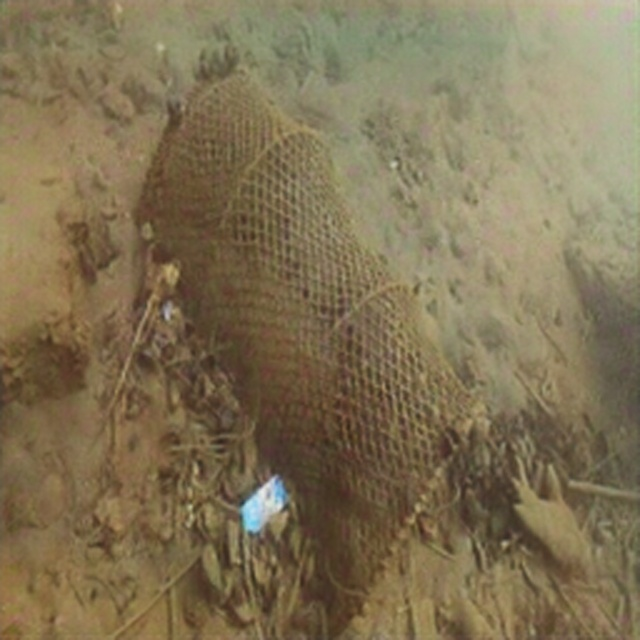mine: (134, 65, 489, 640)
